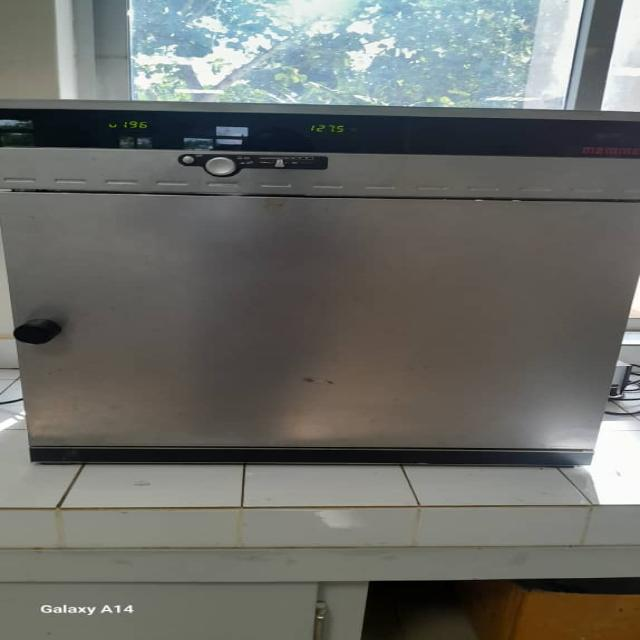Incubator: (6, 100, 636, 457)
